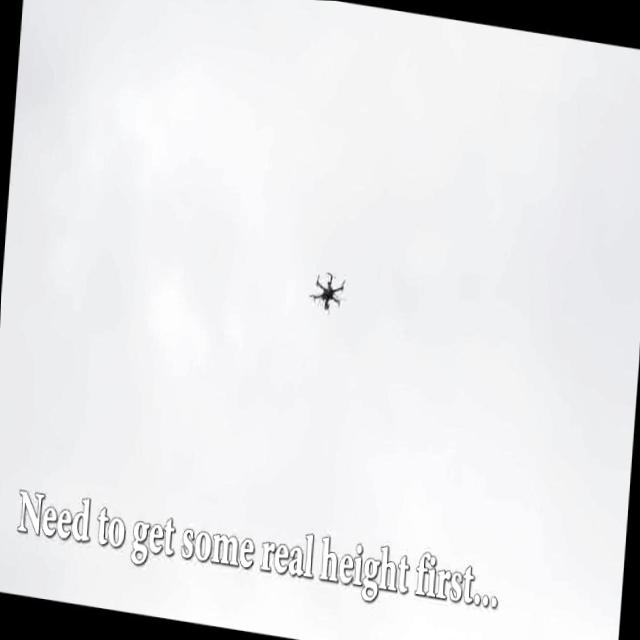drone: (308, 262, 349, 319)
